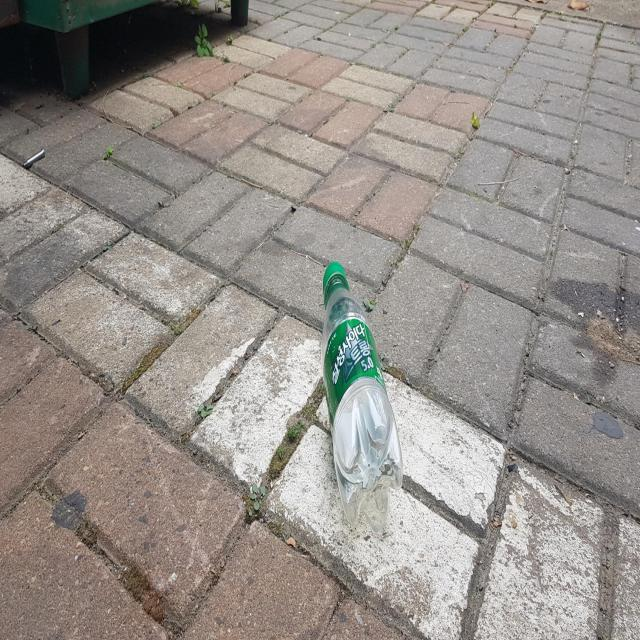plastic: (321, 260, 403, 531)
